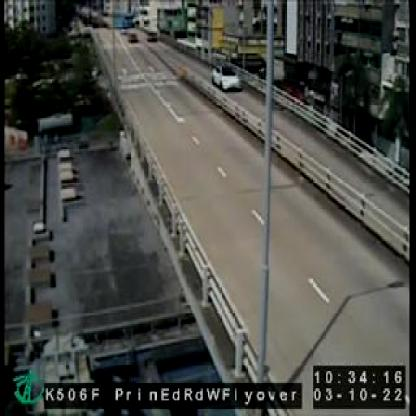Car: (210, 64, 242, 90)
